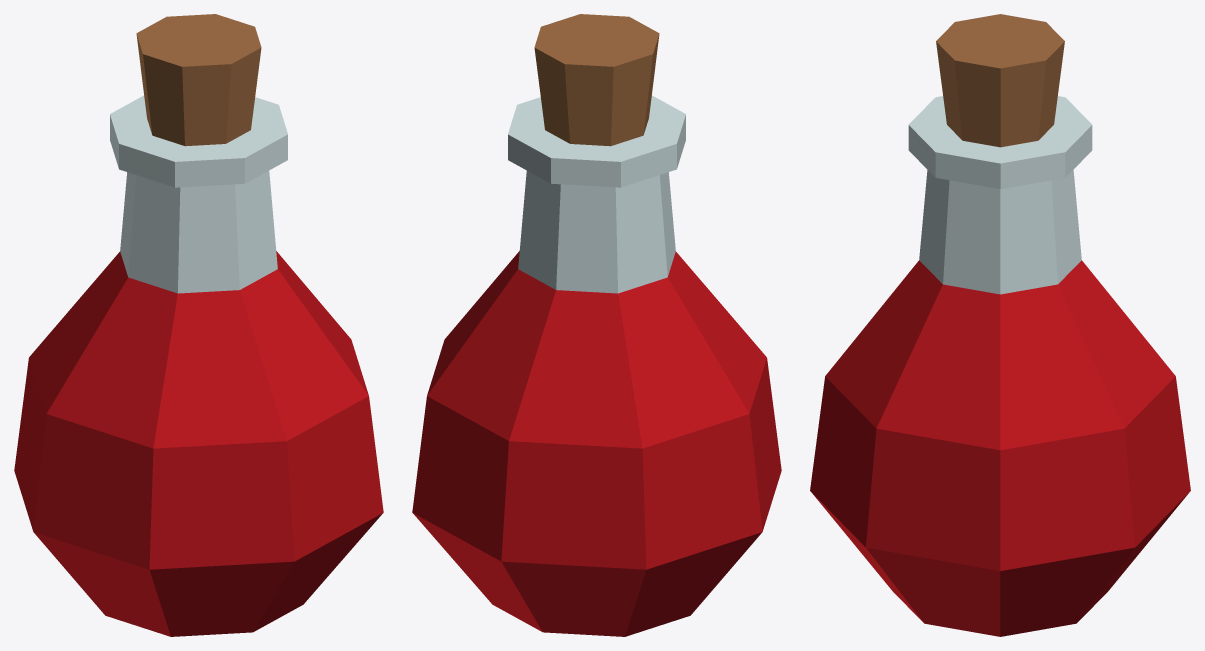
The model's file is LifePot_tex.fbx.
3 views of the same model, side by side, from view 1: azimuth 30°, elevation 25°; view 2: azimuth 150°, elevation 25°; view 3: azimuth 270°, elevation 25° (orthographic).
Parts seen in each view (by area): view 1: LifePot_tex; view 2: LifePot_tex; view 3: LifePot_tex.
Boxes of the visible parts, x1,y1,x2,y2 form: LifePot_tex: [14, 14, 383, 636]; LifePot_tex: [412, 14, 781, 636]; LifePot_tex: [810, 14, 1190, 636].
Size of the model in its own units: 0.1421 by 0.2265 by 0.1421.
